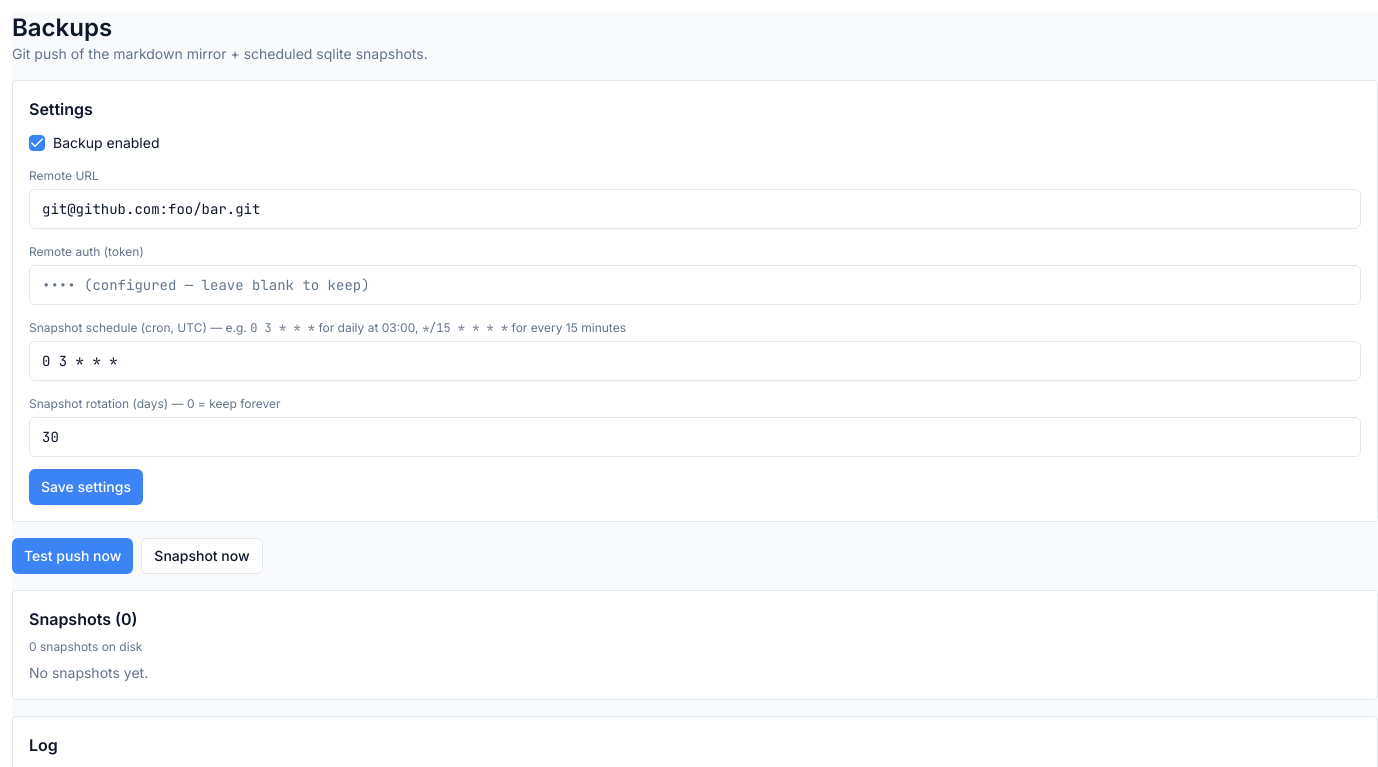
Test: BackupsSettingsPage › Save settings surfaces the server-side validation error
Click the button with test id "settings-save" at (86, 487), box [29,469,143,505]
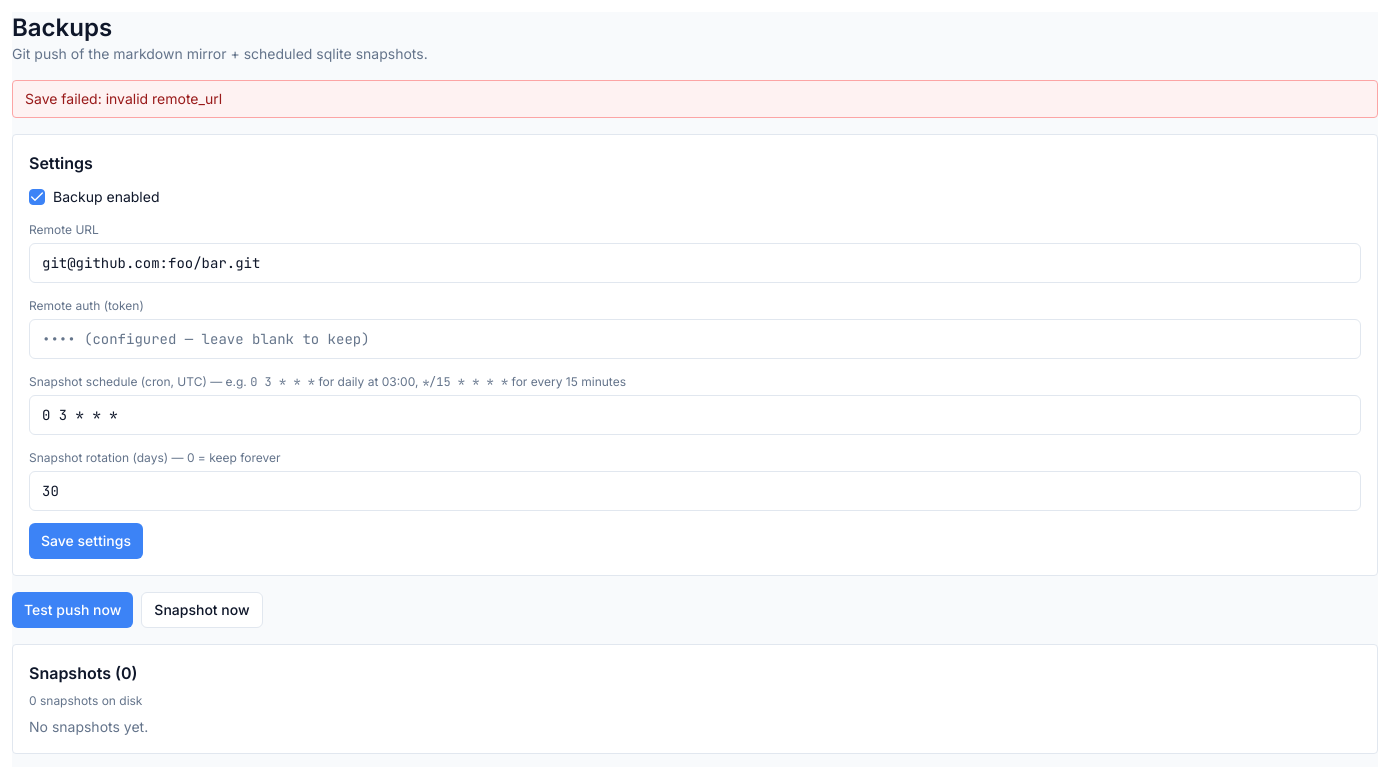
expect the text "Save failed: invalid remote_url" is shown: met, box [12,80,1377,118]
